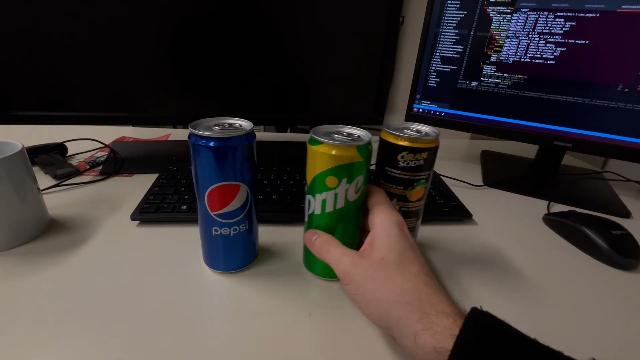OranSoda: (374, 121, 441, 246)
Pepsi: (186, 114, 262, 276)
Sprite: (302, 122, 374, 284)
